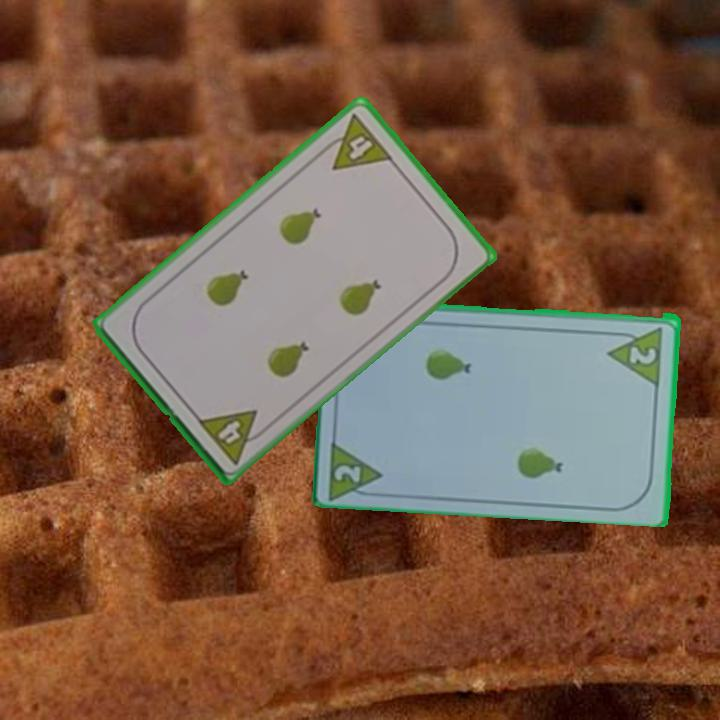2p: (325, 434, 387, 500), (626, 342, 660, 367)
4p: (315, 109, 396, 173), (193, 405, 272, 467)
